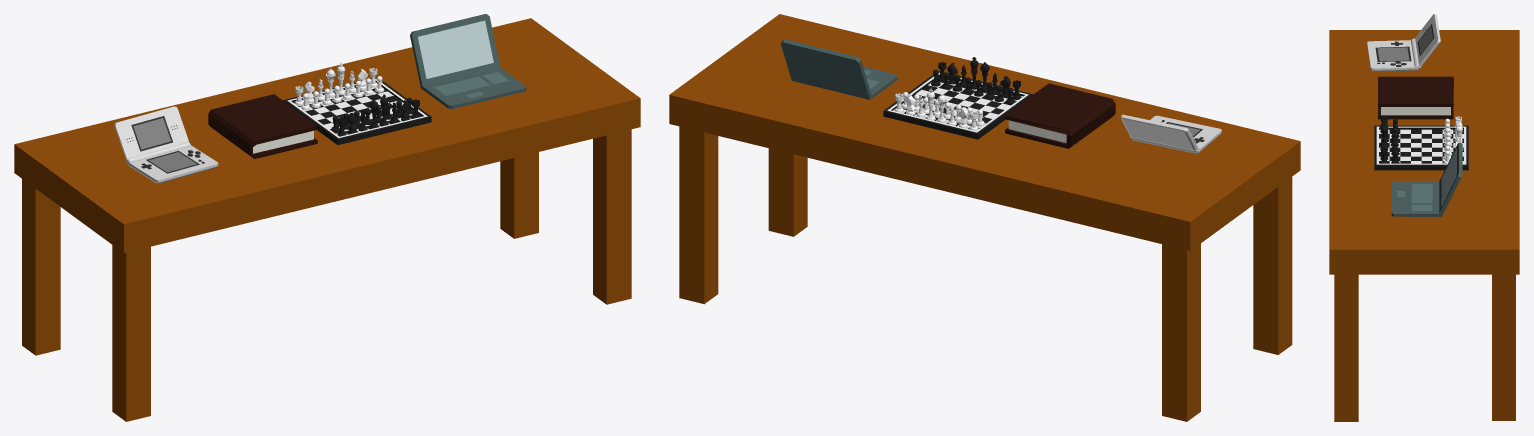
Rendered from table.glb.
The picture shows the model from 3 angles, left to right: view 1: azimuth 30°, elevation 25°; view 2: azimuth 150°, elevation 25°; view 3: azimuth 270°, elevation 25°; orthographic projection. The views are drawn at different scales.
Parts seen in each view (by area): view 1: Cube.005, laptop, Cube.006, Cube.003, Node, Cube.004, Nintendo_DS, Cube, Cube.001; view 2: Cube.005, Cube.001, Cube.004, Node, Cube.006, Cube, laptop, Cube.003, Nintendo_DS; view 3: Cube.005, Node, Cube.003, Cube.001, Cube, laptop, Nintendo_DS, Cube.002.
Boxes of the visible parts, x1,y1,x2,y2 form: Cube.005: (14,18,640,252); laptop: (410,14,526,108); Cube.006: (112,245,150,421); Cube.003: (593,129,631,304); Node: (283,63,431,144); Cube.004: (22,179,60,355); Nintendo_DS: (114,106,218,183); Cube: (208,94,317,158); Cube.001: (500,152,538,238); Cube.005: (669,14,1300,250); Cube.001: (679,126,718,304); Cube.004: (1162,243,1200,421); Node: (883,57,1032,139); Cube.006: (1253,177,1292,354); Cube: (1005,83,1115,148); laptop: (780,39,897,99); Cube.003: (768,148,807,236); Nintendo_DS: (1121,114,1221,153); Cube.005: (1329,30,1519,274); Node: (1374,116,1468,170); Cube.003: (1334,274,1358,421); Cube.001: (1492,274,1515,420); Cube: (1378,76,1453,119); laptop: (1391,142,1462,216); Nintendo_DS: (1367,14,1440,71); Cube.002: (1381,107,1450,115).
Size of the model in its own units: 7.97 by 3.69 by 2.93.
Materials: 13 (1 with a texture image).
